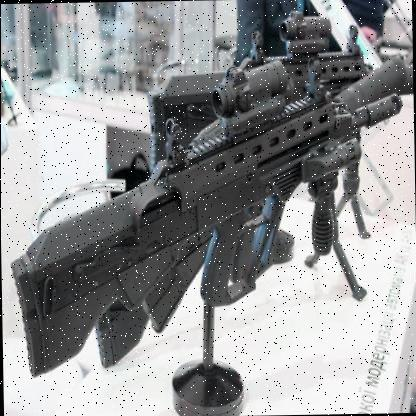rifle: (12, 39, 397, 395)
